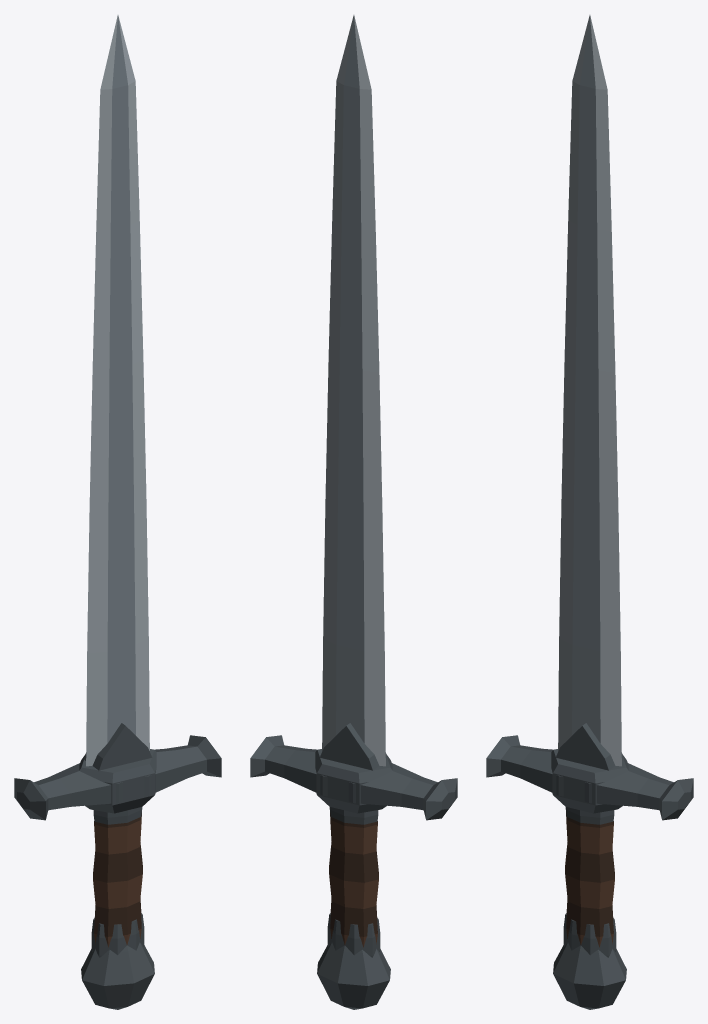
Rendered from mdvl_weapons_shortsword_01.glb.
3 renders of one model, left to right at view 1: azimuth 30°, elevation 25°; view 2: azimuth 150°, elevation 25°; view 3: azimuth 330°, elevation 25°, orthographic.
Parts seen in each view (by area): view 1: mdvl_weapons_shortsword_01; view 2: mdvl_weapons_shortsword_01; view 3: mdvl_weapons_shortsword_01.
Part boxes in pixels (bbox=[...]): mdvl_weapons_shortsword_01: bbox=[14, 15, 221, 1009]; mdvl_weapons_shortsword_01: bbox=[250, 15, 457, 1009]; mdvl_weapons_shortsword_01: bbox=[486, 15, 693, 1009].
Size of the model in its own units: 0.144 by 0.725 by 0.0428.
1 material, 1 textured.
